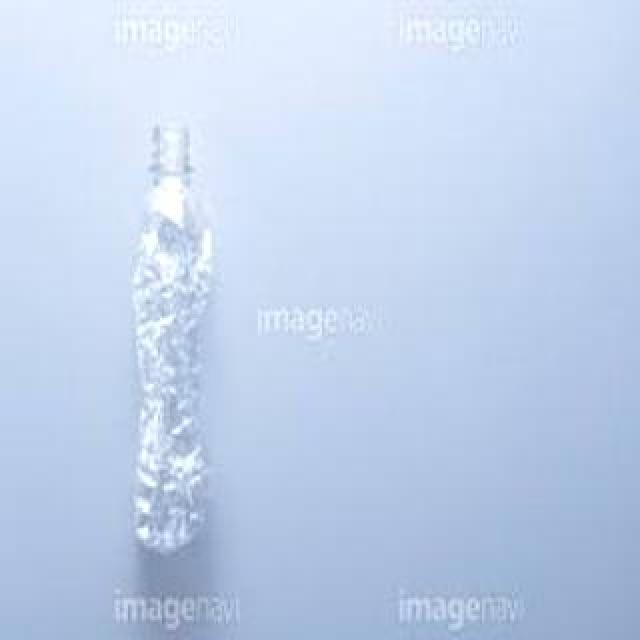Pet_Bottle: (131, 119, 217, 559)
